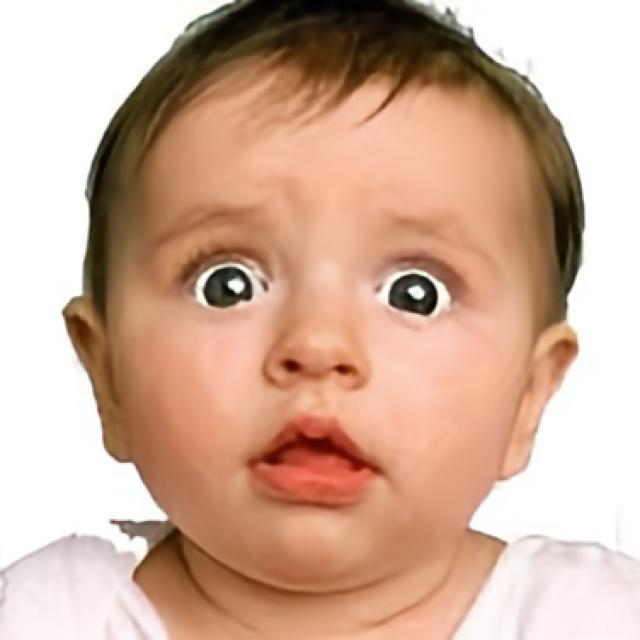fear: (103, 40, 540, 594)
